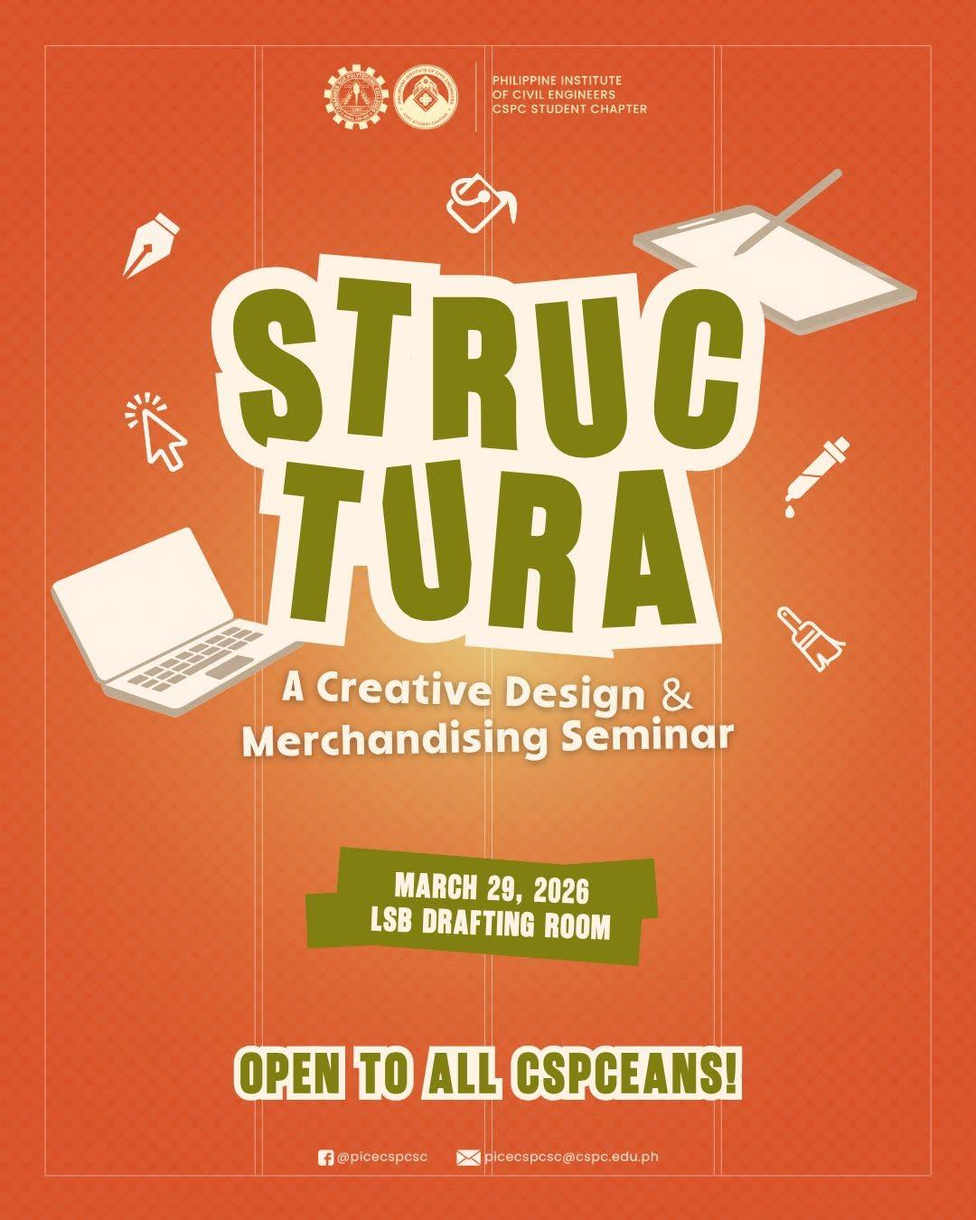embellishment: (44, 522, 313, 728), (628, 162, 924, 339), (119, 385, 197, 480), (780, 429, 858, 523), (772, 598, 855, 681), (438, 168, 528, 242), (117, 204, 190, 287)
logo: (317, 57, 393, 133), (393, 57, 463, 133), (454, 1145, 484, 1170), (314, 1145, 339, 1169)
text: (192, 237, 779, 658), (233, 655, 756, 771), (224, 1032, 756, 1110), (364, 863, 628, 949), (484, 63, 661, 122), (483, 1148, 663, 1167), (336, 1149, 431, 1169)
underlay: (0, 0, 975, 1219)
